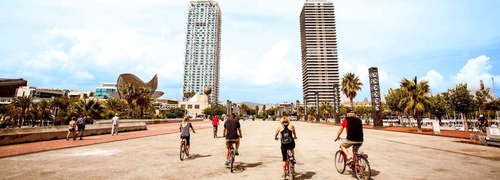bikerider: (322, 100, 379, 179), (267, 109, 302, 180), (221, 106, 244, 171), (169, 113, 195, 163)
